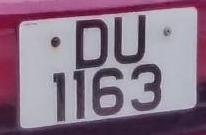1: (69, 65, 92, 125), (50, 65, 72, 125)
3: (123, 63, 169, 116)
6: (90, 65, 129, 120)
D: (72, 16, 113, 70)
U: (109, 11, 152, 67)
